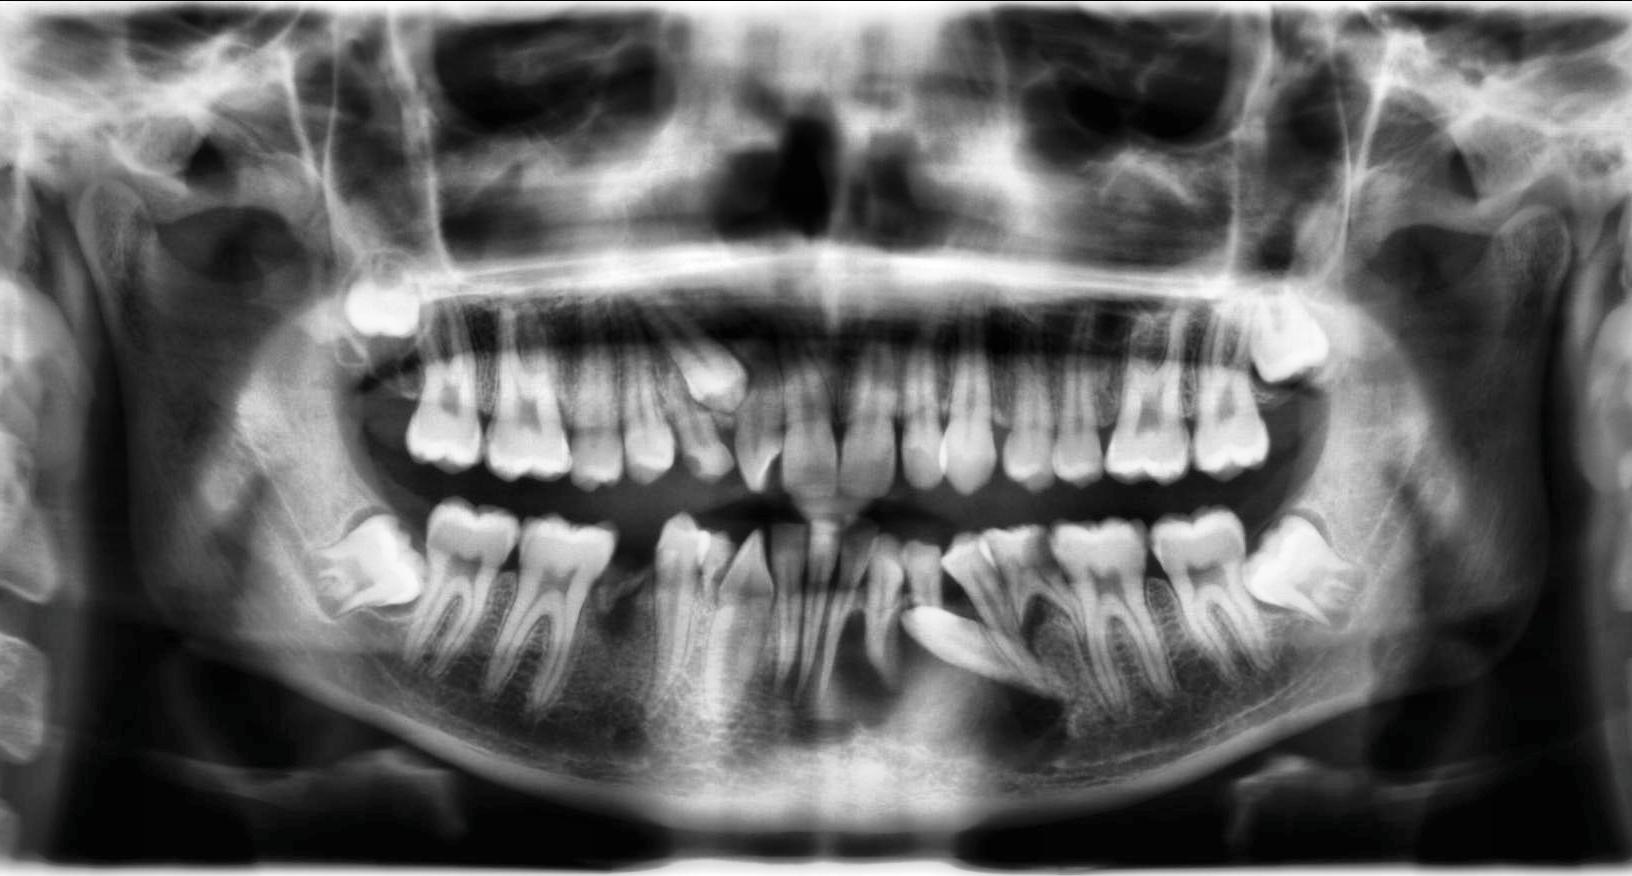dentigeroz: (743, 606, 1070, 775)
